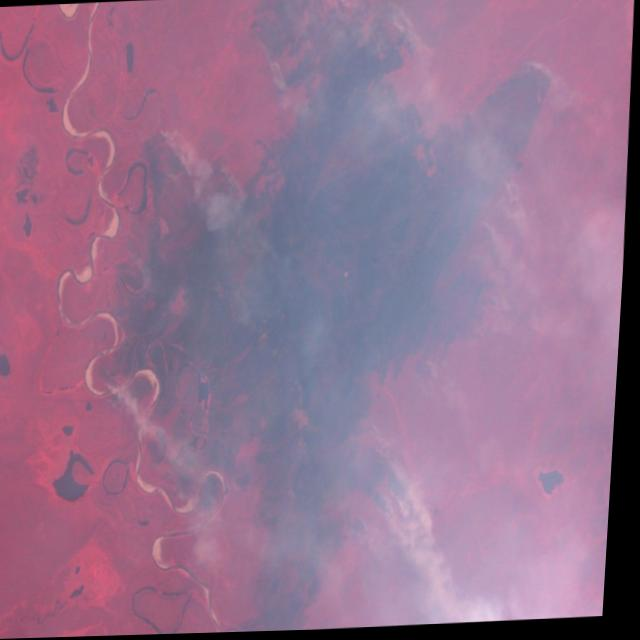fire: (354, 412, 426, 561), (479, 160, 528, 264), (249, 38, 303, 117), (510, 37, 564, 101), (146, 116, 190, 183), (374, 1, 421, 54), (95, 368, 132, 416)
